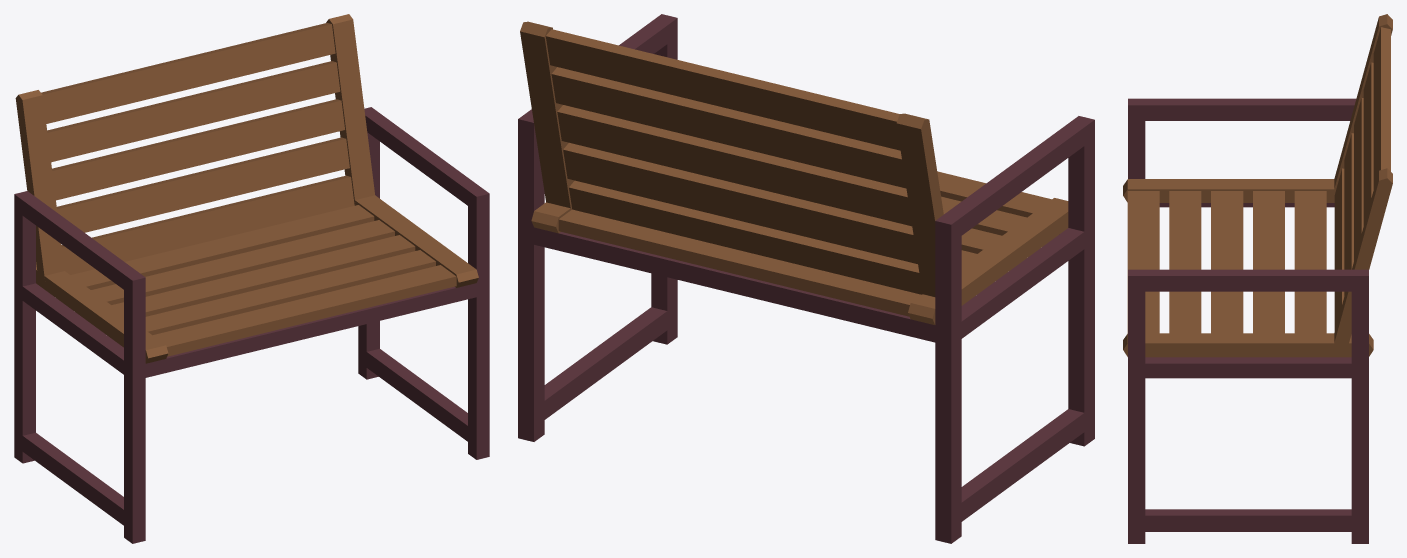
File: chair-outside-modern-wide.fbx
3 views of the same model, side by side, from view 1: azimuth 30°, elevation 25°; view 2: azimuth 150°, elevation 25°; view 3: azimuth 270°, elevation 25° (orthographic). The views are drawn at different scales.
Visible parts, largest first — view 1: chair-outside-modern-wide; view 2: chair-outside-modern-wide; view 3: chair-outside-modern-wide.
Part boxes in pixels (<box>): chair-outside-modern-wide: <box>14,14,489,543</box>; chair-outside-modern-wide: <box>518,14,1094,543</box>; chair-outside-modern-wide: <box>1123,14,1392,543</box>.
Size of the model in its own units: 1.08 by 1.02 by 0.6939.
